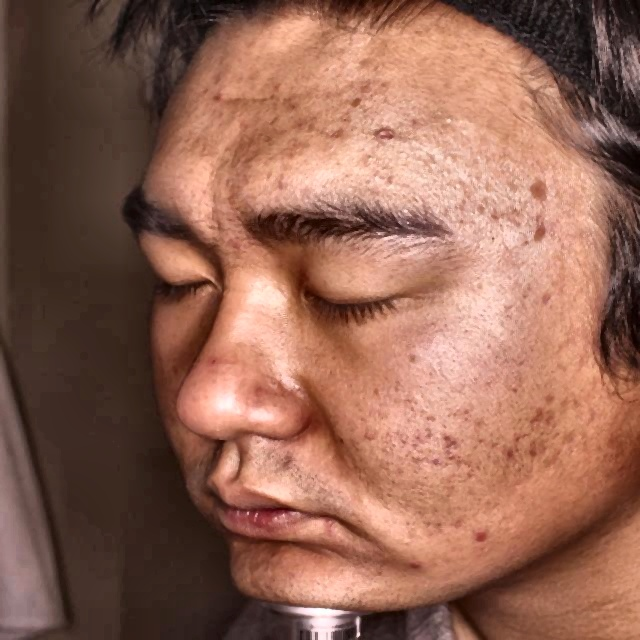comedone: (526, 398, 562, 442), (467, 522, 497, 551)
